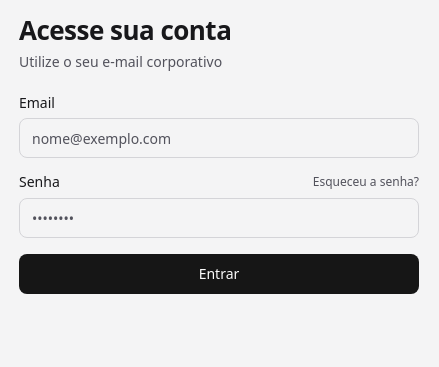
Test: LoginForm › shows validation errors for invalid input
This screenshot has width=439, height=367.
Click the button "Entrar" at (219, 274), box [19,254,419,294]
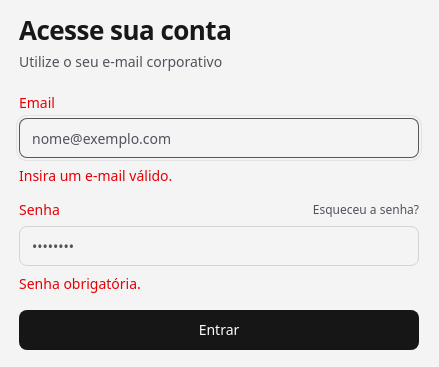
Result: the text "Insira um e-mail válido." is shown at [19,166,172,185]
Result: the text "Senha obrigatória." is shown at [19,274,141,293]
